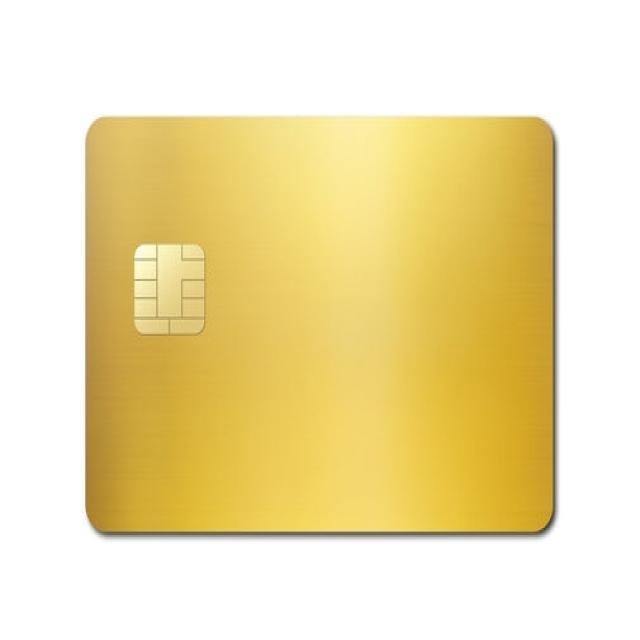payment_card: (84, 114, 556, 535)
